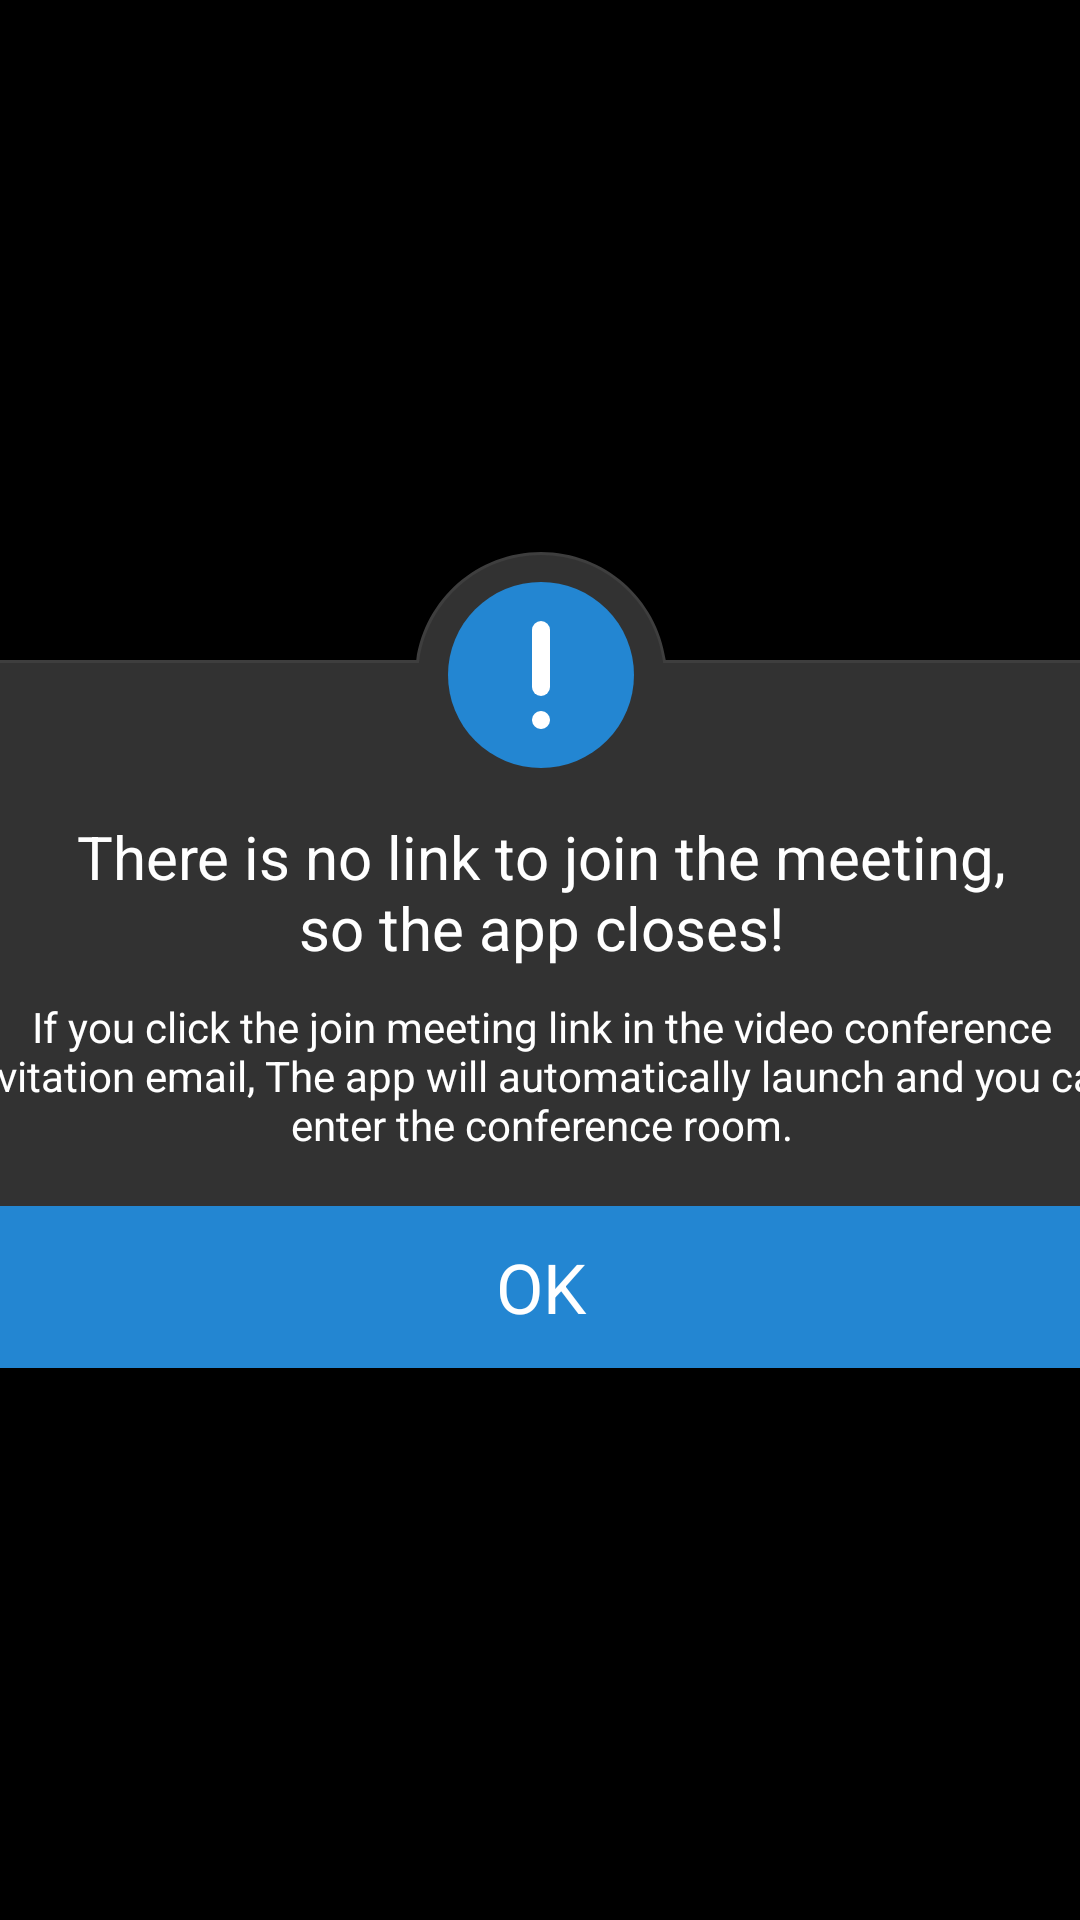

Screen size 1080px×1920px. Icon name, then its box in pixels as {"left": x1, "top": y1, "right": x2, "bottom": y2}:
warning: {"left": 448, "top": 582, "right": 634, "bottom": 768}
